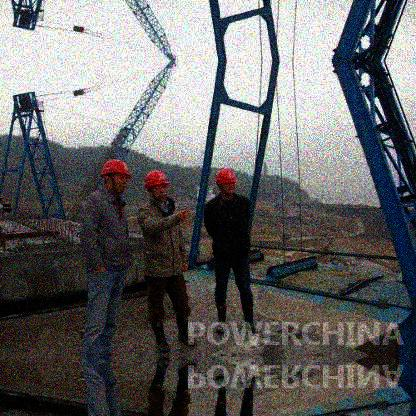helmet: (100, 157, 133, 193), (143, 169, 170, 199), (214, 167, 236, 195)
